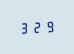nine: (43, 19, 54, 33)
three: (18, 20, 29, 34)
two: (31, 20, 42, 33)
